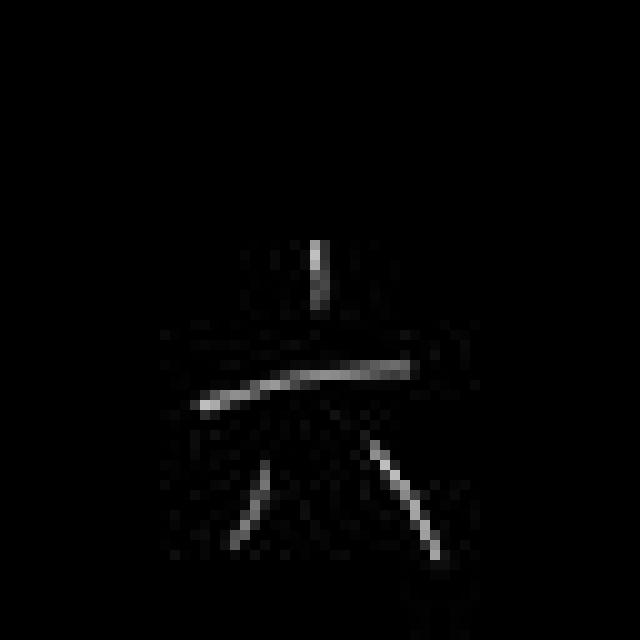6 -six-: (188, 228, 456, 572)
